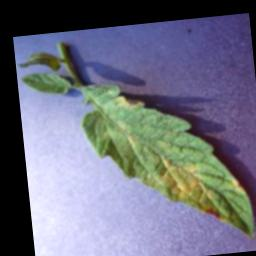Leaf_Mold: (139, 147, 233, 233), (112, 93, 146, 114), (228, 175, 246, 195)
